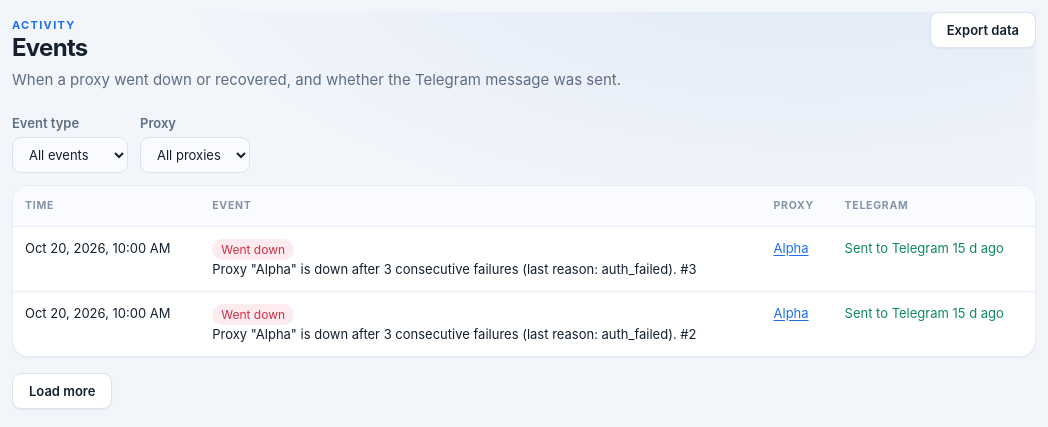
Test: EventPage › ignores a load-more response from the previous filter generation
Expected: the table is shown, x1=13 y1=186 x2=1035 y2=356
Click the button "Load more" at (62, 391), box x1=12 y1=373 x2=112 y2=409
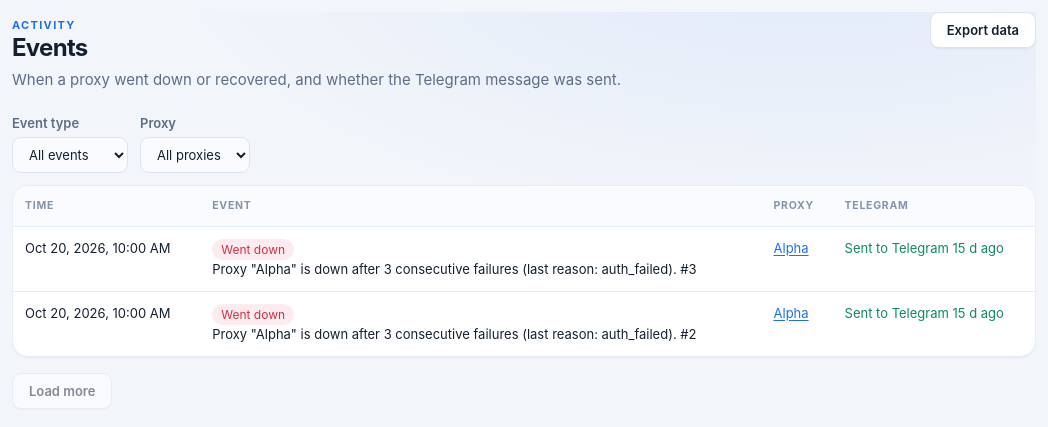
Select "Recovered" in the dropdown labelled "Event type" at (70, 155), box x1=12 y1=137 x2=128 y2=173
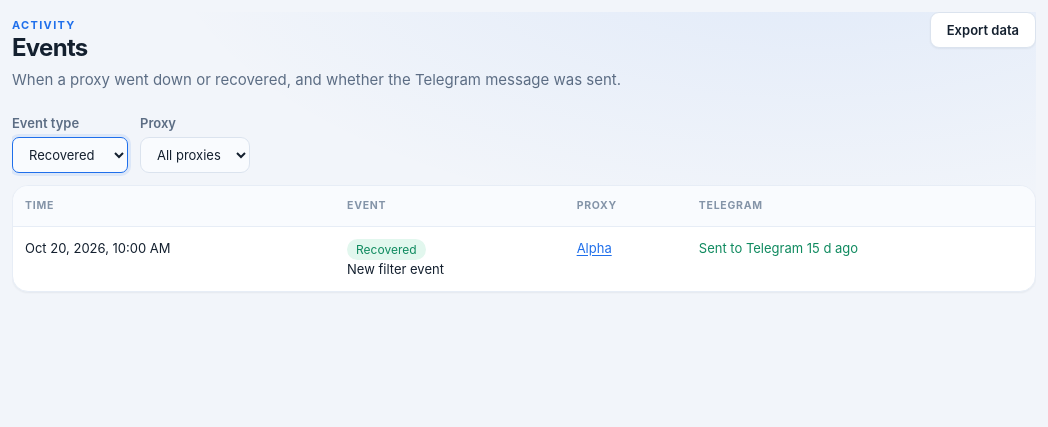
Result: the text "New filter event" is shown at x1=347 y1=261 x2=444 y2=277
Result: the button "Load more" is gone
